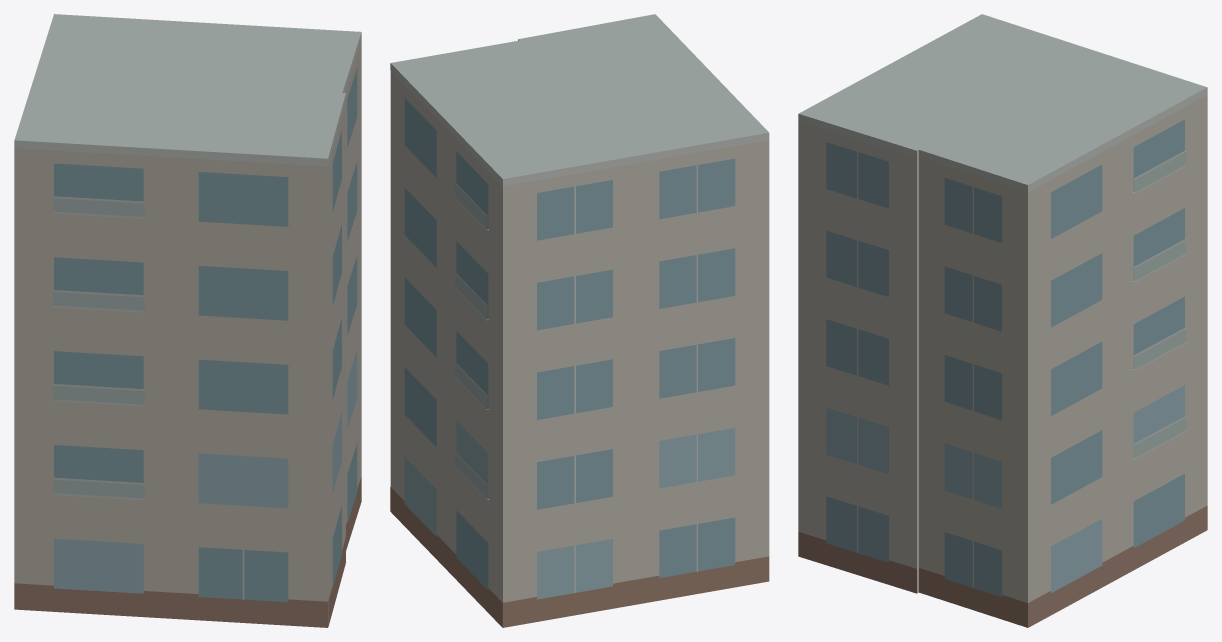
The model's file is survey-upis-32974247.glb.
The picture shows the model from 3 angles, left to right: view 1: azimuth 30°, elevation 25°; view 2: azimuth 150°, elevation 25°; view 3: azimuth 270°, elevation 25°; orthographic projection. The views are drawn at different scales.
Visible parts, largest first — view 1: survey-upis-32974247.tmp; view 2: survey-upis-32974247.tmp; view 3: survey-upis-32974247.tmp.
Boxes of the visible parts, x1,y1,x2,y2 form: survey-upis-32974247.tmp: (14,14,361,627); survey-upis-32974247.tmp: (390,14,769,627); survey-upis-32974247.tmp: (798,14,1207,627).
Bounding box in the file's own units: 12.11 × 14.6 × 12.24.
